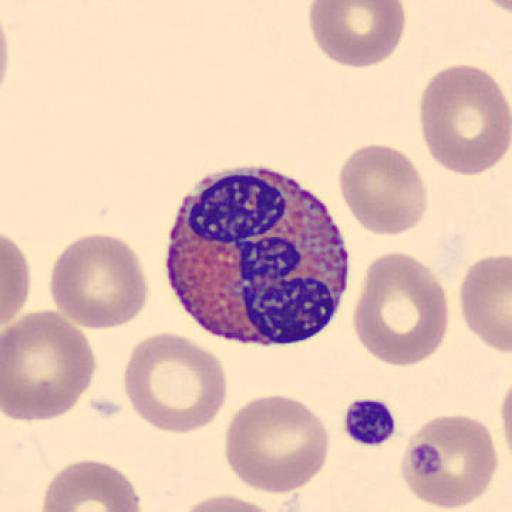Platelet: (339, 395, 398, 448)
RBC: (352, 250, 450, 368), (123, 330, 228, 436), (2, 308, 98, 423), (223, 393, 330, 496), (418, 63, 511, 177), (48, 232, 151, 332), (397, 413, 498, 509), (337, 143, 430, 238), (307, 0, 407, 69), (40, 457, 142, 512), (459, 253, 512, 356), (1, 232, 32, 332), (176, 492, 288, 512), (499, 376, 512, 465), (482, 0, 512, 14)
WBC: (164, 164, 351, 346)
